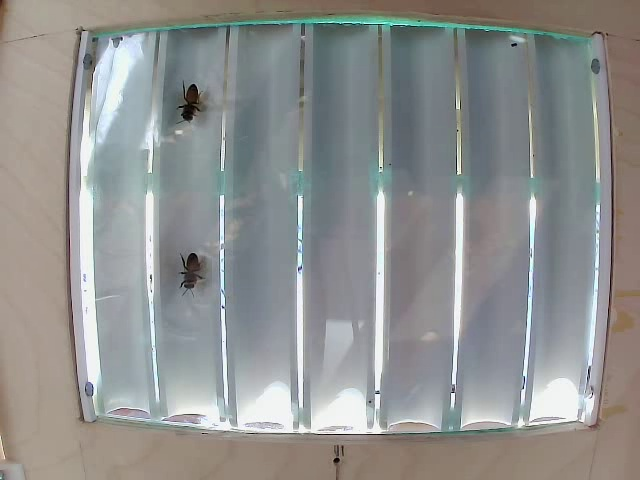bee: (170, 260, 214, 295), (177, 85, 209, 123)
